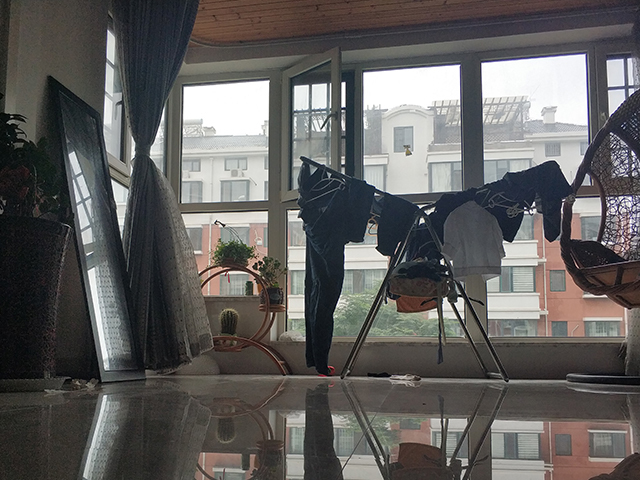curtain: (109, 1, 216, 379)
